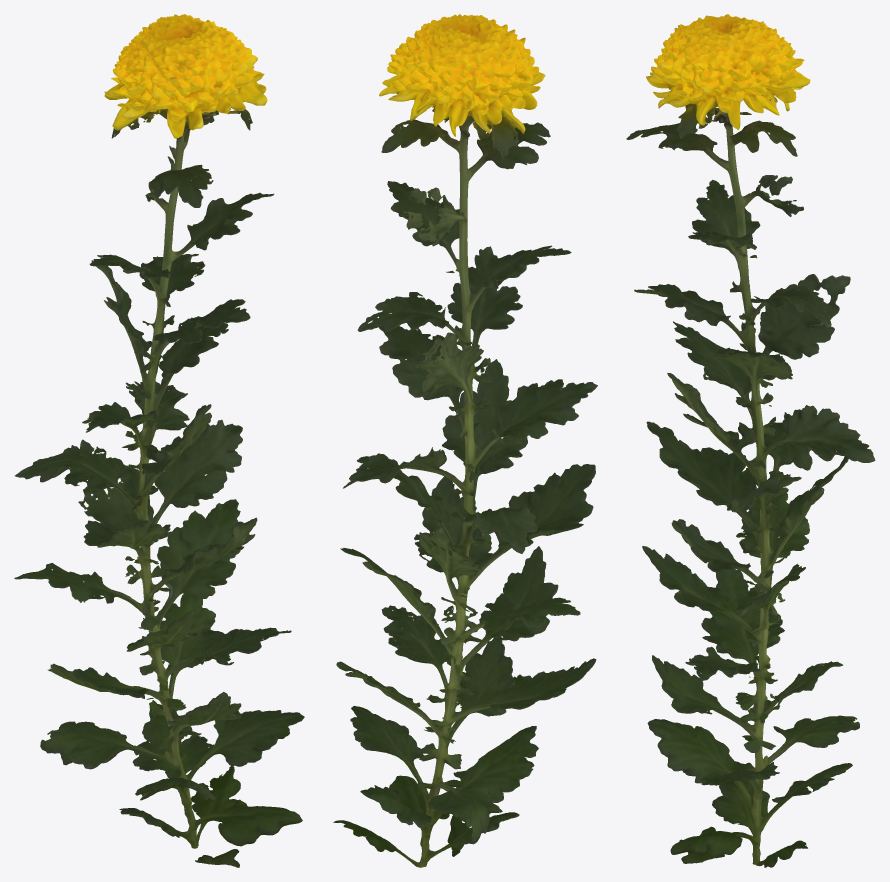
The model's file is HoaCuc_Don.glb.
The picture shows the model from 3 angles, left to right: view 1: azimuth 30°, elevation 25°; view 2: azimuth 150°, elevation 25°; view 3: azimuth 270°, elevation 25°; orthographic projection.
Visible parts, largest first — view 1: Model; view 2: Model; view 3: Model.
Boxes of the visible parts, x1,y1,x2,y2 form: Model: (14,14,304,867); Model: (333,14,597,867); Model: (626,14,875,867).
Size of the model in its own units: 0.2414 by 0.7479 by 0.2032.
Materials: 1 (1 with a texture image).
